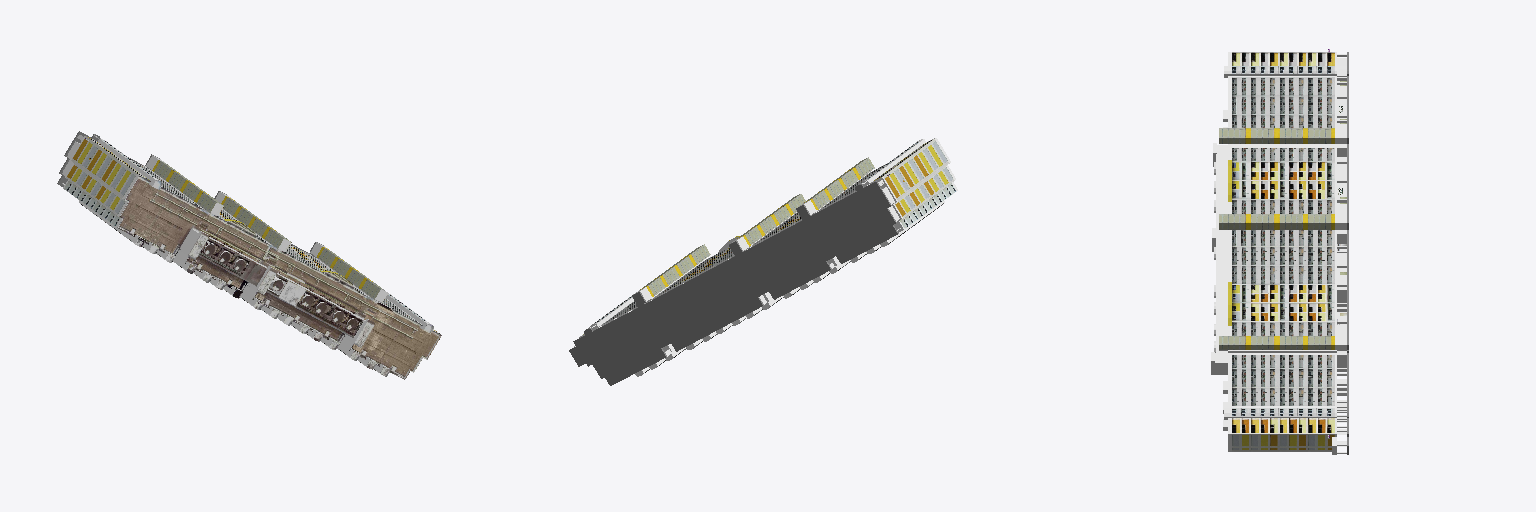
3 views of the same model, side by side, from view 1: azimuth 30°, elevation 25°; view 2: azimuth 150°, elevation 25°; view 3: azimuth 270°, elevation 25° (orthographic).
Parts seen in each view (by area): view 1: polygon.760; view 2: polygon.760; view 3: polygon.760.
Part boxes in pixels (x1,y1,x2,y2): polygon.760: (57,131,441,379); polygon.760: (569,138,957,385); polygon.760: (1211,49,1348,454).
Size of the model in its own units: 107 by 83.88 by 38.78.
1 materials, 1 textured.